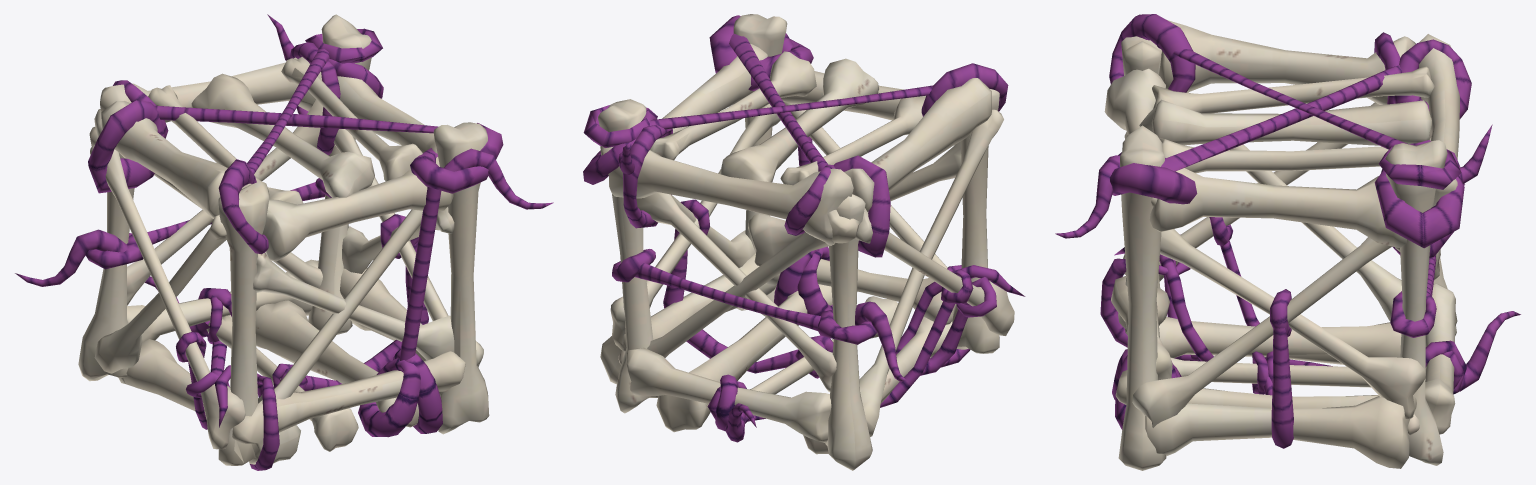
File: BoneCage.FBX
The picture shows the model from 3 angles, left to right: view 1: azimuth 30°, elevation 25°; view 2: azimuth 150°, elevation 25°; view 3: azimuth 270°, elevation 25°; orthographic projection. The views are drawn at different scales.
Visible parts, largest first — view 1: BoneCage; view 2: BoneCage; view 3: BoneCage.
Part boxes in pixels (box(x1,y1,x2,y2)): BoneCage: box(15, 14, 553, 470); BoneCage: box(583, 14, 1025, 470); BoneCage: box(1055, 14, 1520, 470).
Size of the model in its own units: 224 by 196 by 240.
